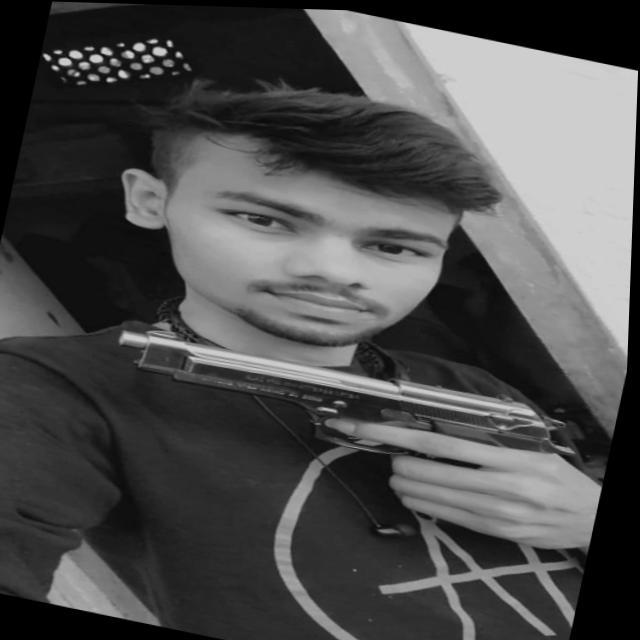weapon: (75, 310, 608, 552)
